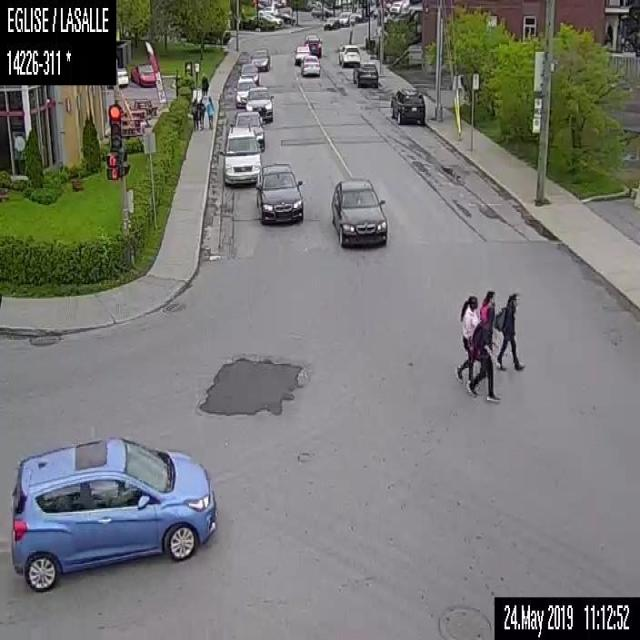pedestrian: (467, 302, 502, 405), (493, 290, 524, 374), (456, 289, 480, 386), (479, 288, 493, 351), (203, 95, 214, 128), (190, 94, 200, 130), (196, 96, 205, 130), (199, 70, 209, 98)
vehicle: (10, 433, 216, 592), (328, 176, 388, 248), (254, 161, 304, 224), (218, 124, 262, 184), (389, 87, 426, 125), (230, 109, 265, 149), (244, 85, 274, 124), (180, 26, 230, 45), (234, 74, 256, 107), (353, 58, 377, 88), (129, 62, 155, 85), (336, 42, 359, 66), (299, 53, 321, 76), (249, 46, 270, 70), (239, 61, 259, 85), (302, 32, 322, 54), (262, 14, 284, 28), (322, 14, 340, 31), (293, 43, 309, 62), (388, 0, 408, 12), (116, 66, 127, 86), (339, 12, 350, 25)
